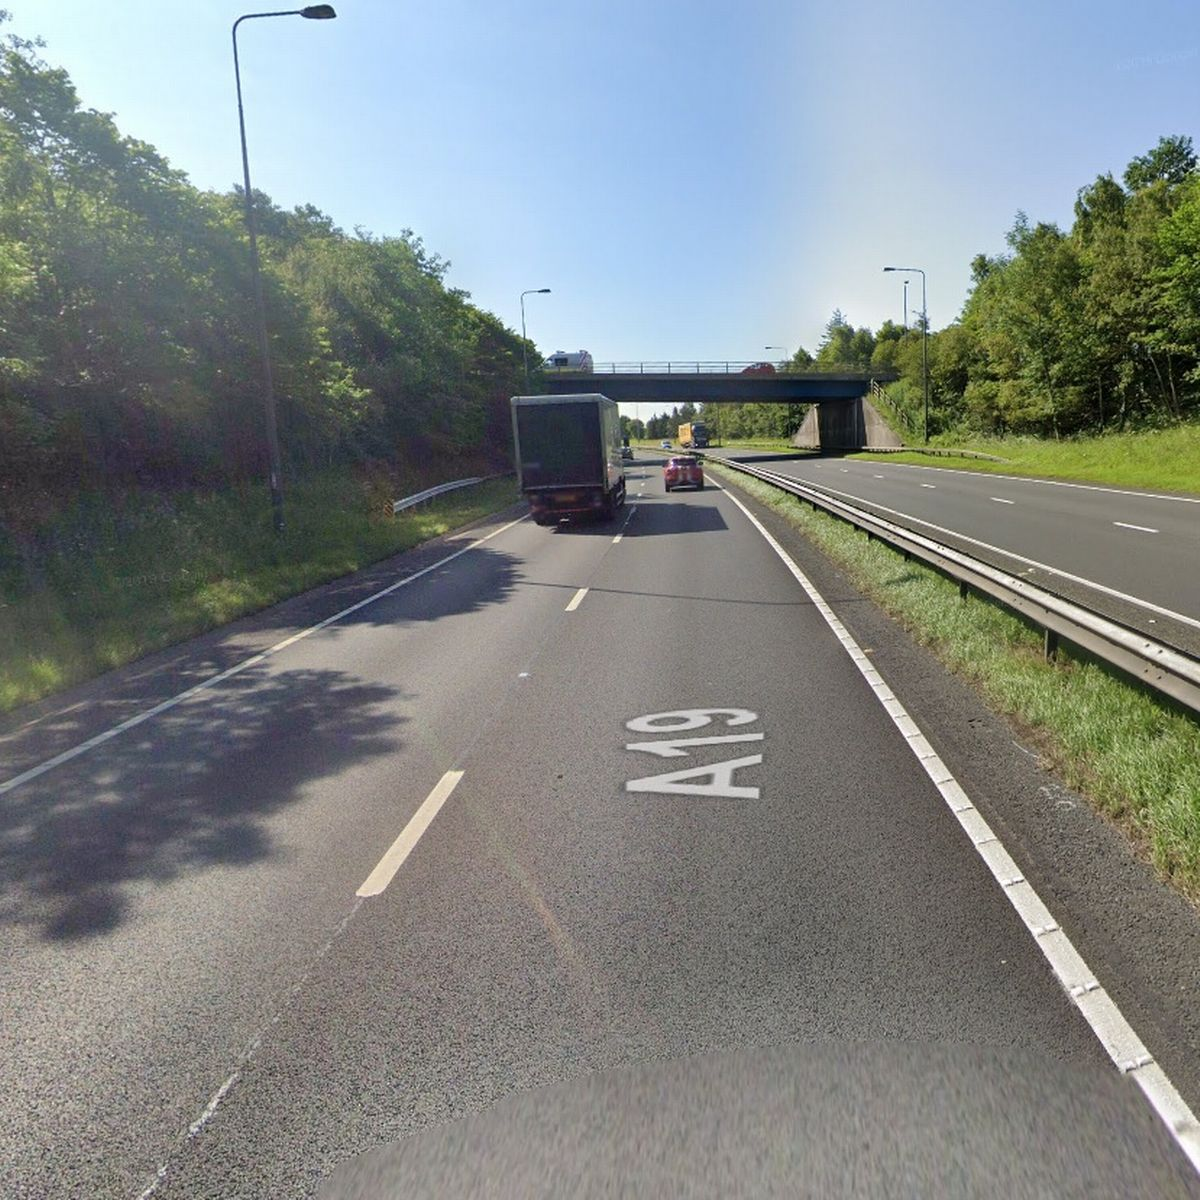bridge: (531, 352, 907, 445)
